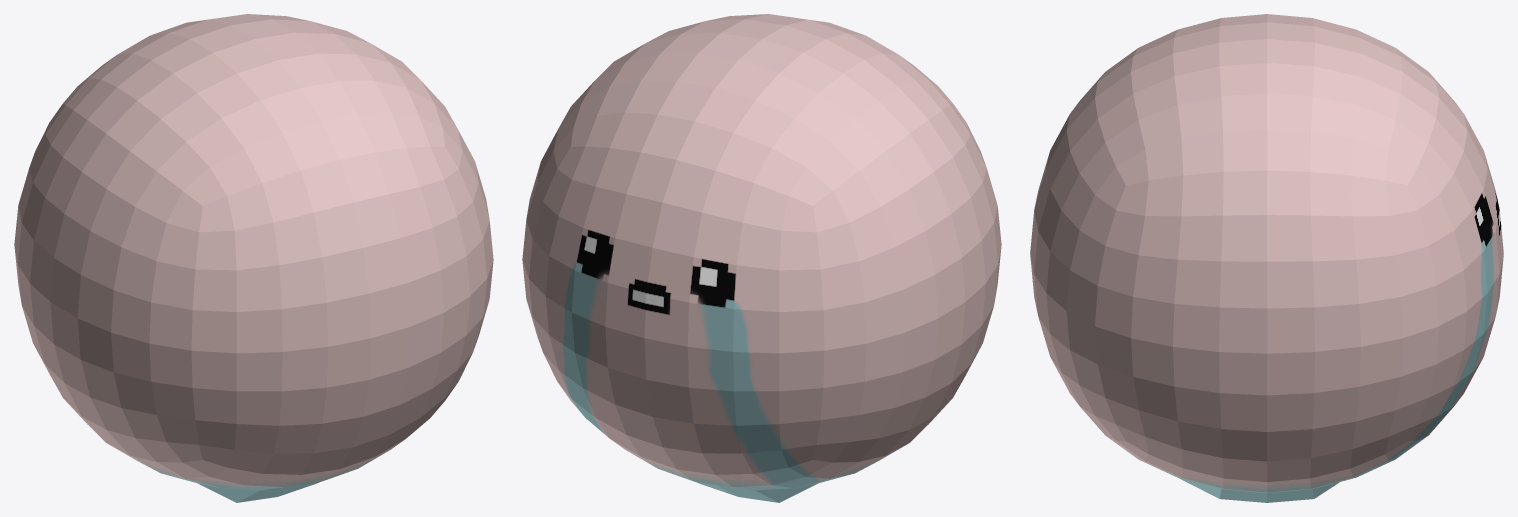
The model's file is Isaac.fbx.
The picture shows the model from 3 angles, left to right: view 1: azimuth 30°, elevation 25°; view 2: azimuth 150°, elevation 25°; view 3: azimuth 270°, elevation 25°; orthographic projection.
Visible parts, largest first — view 1: Cube; view 2: Cube; view 3: Cube.
Part boxes in pixels (<box>): Cube: <box>14,14,493,502</box>; Cube: <box>522,14,1001,502</box>; Cube: <box>1030,14,1503,502</box>.
Size of the model in its own units: 168 by 175 by 168.
